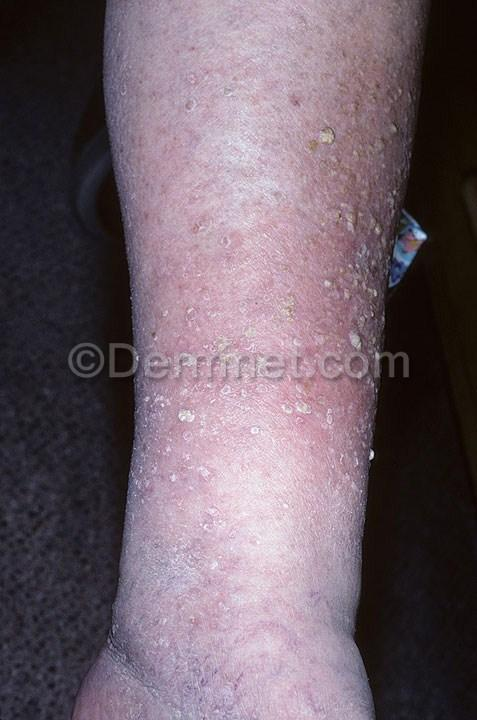Eczema: (124, 37, 283, 208), (228, 377, 374, 519), (284, 18, 415, 169), (303, 172, 407, 348), (135, 524, 259, 669), (149, 231, 290, 345), (140, 392, 248, 514)
